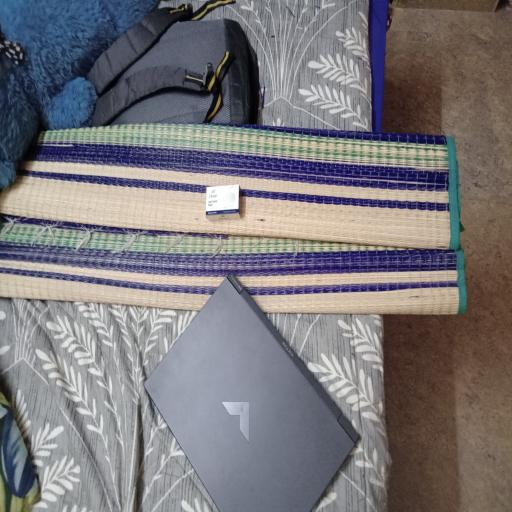Dove`1: (207, 182, 242, 225)
